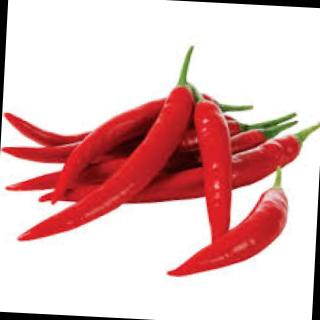Cabai Merah: (40, 85, 174, 213), (167, 184, 291, 284), (188, 99, 240, 245), (230, 119, 320, 194), (2, 110, 95, 153)
